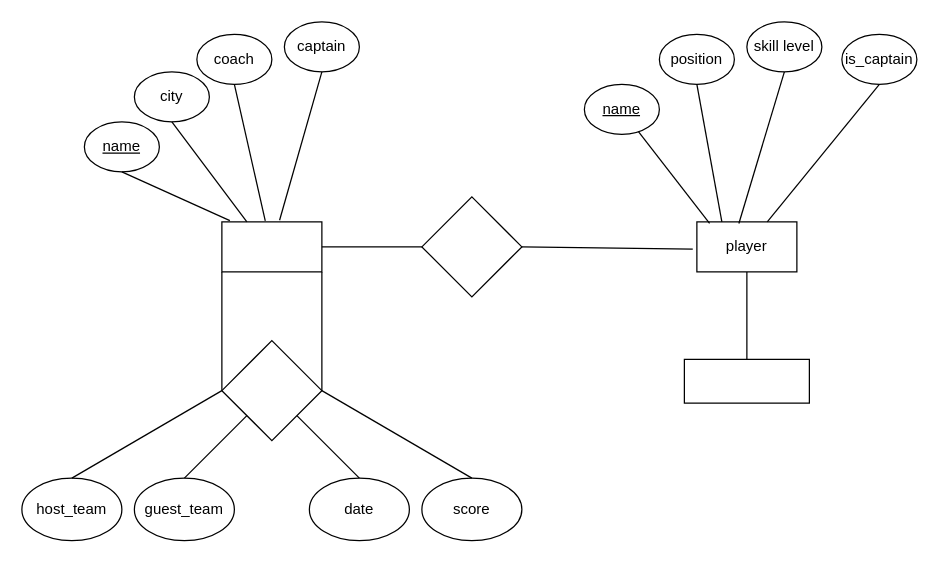
Image size: 939x563. Some labels were removed from this diagram. The centre of each missing label's shape, as x and y in pixels:
"game" goes at (x=271, y=390).
"injury record" goes at (x=746, y=380).
"own" goes at (x=471, y=246).
"teams" goes at (x=271, y=246).
